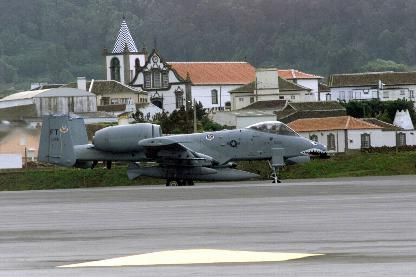A10: (36, 114, 330, 185)
